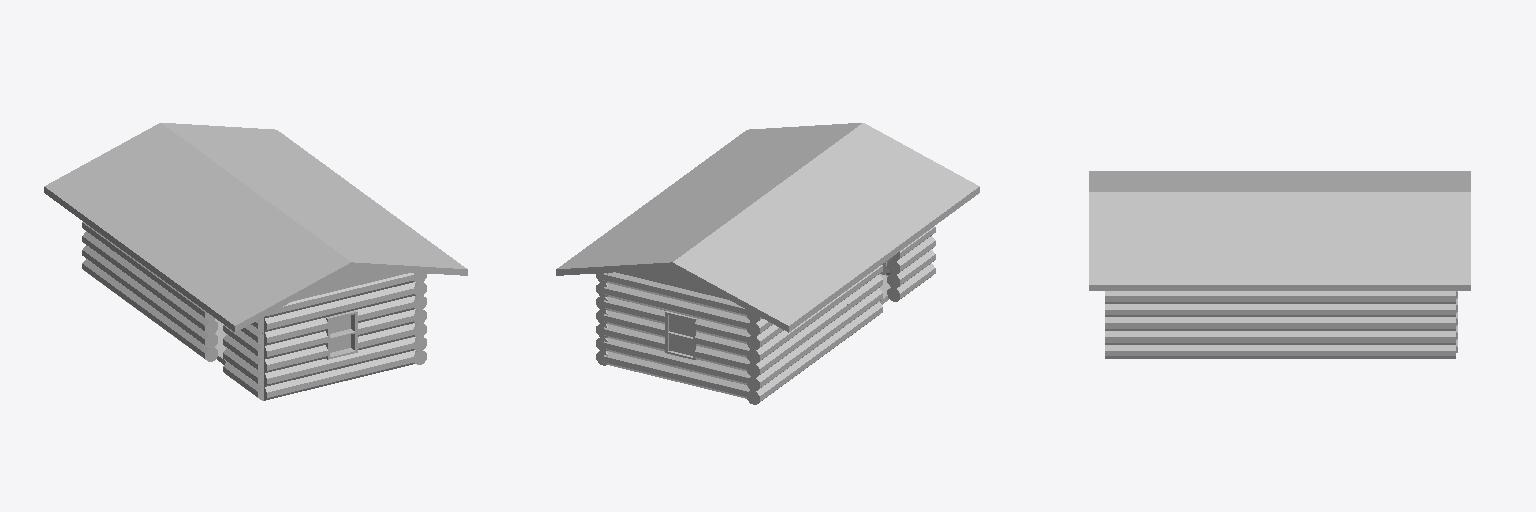
Rendered from cabañaestructuratecho.obj.
3 renders of one model, left to right at view 1: azimuth 30°, elevation 25°; view 2: azimuth 150°, elevation 25°; view 3: azimuth 270°, elevation 25°, orthographic.
Parts seen in each view (by area): view 1: Techo, Pared, Triangulo.001, Ventana.001, Cristal.001; view 2: Techo, Pared, Triangulo, Cristal; view 3: Techo, Pared.
Part boxes in pixels (x1,y1,x2,y2): Techo: (44,123,467,332); Pared: (82,222,426,400); Triangulo.001: (292,269,410,301); Ventana.001: (326,310,357,359); Cristal.001: (330,315,350,352); Techo: (556,123,979,332); Pared: (596,226,935,404); Triangulo: (616,269,727,299); Cristal: (669,315,692,355); Techo: (1089,171,1470,290); Pared: (1105,291,1457,358).
Size of the model in its own units: 13.16 by 6.87 by 18.71.